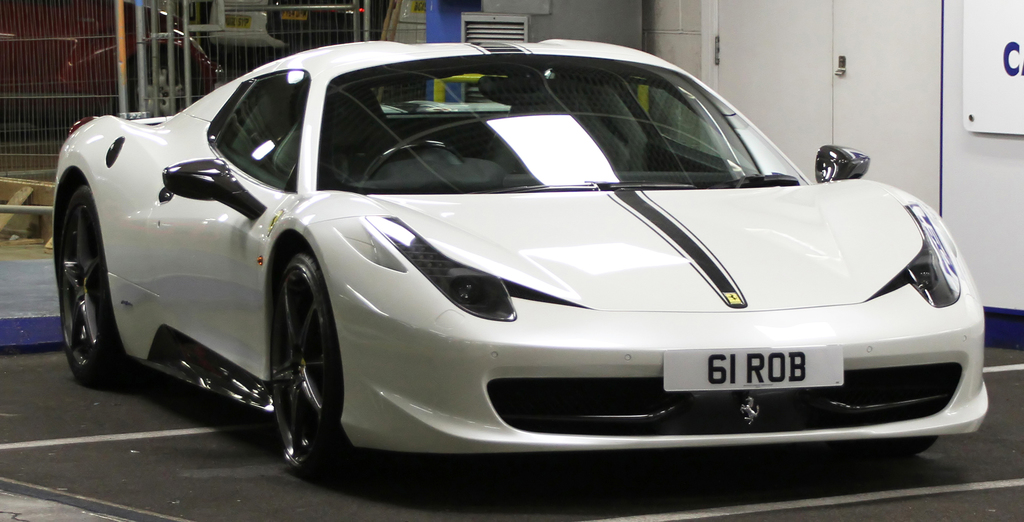Car: (46, 33, 995, 474)
